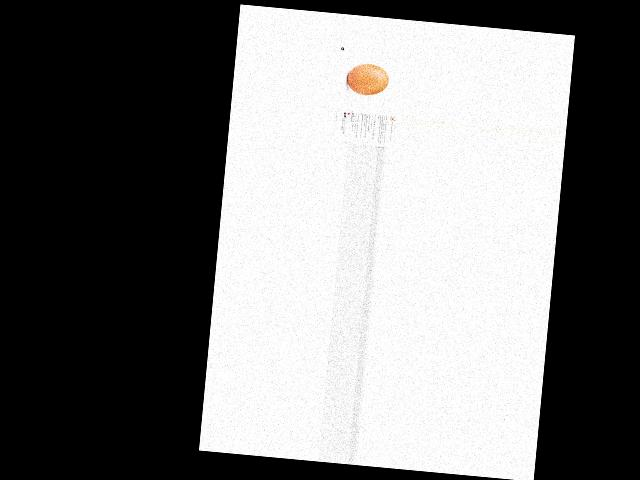egg: (346, 62, 389, 97)
